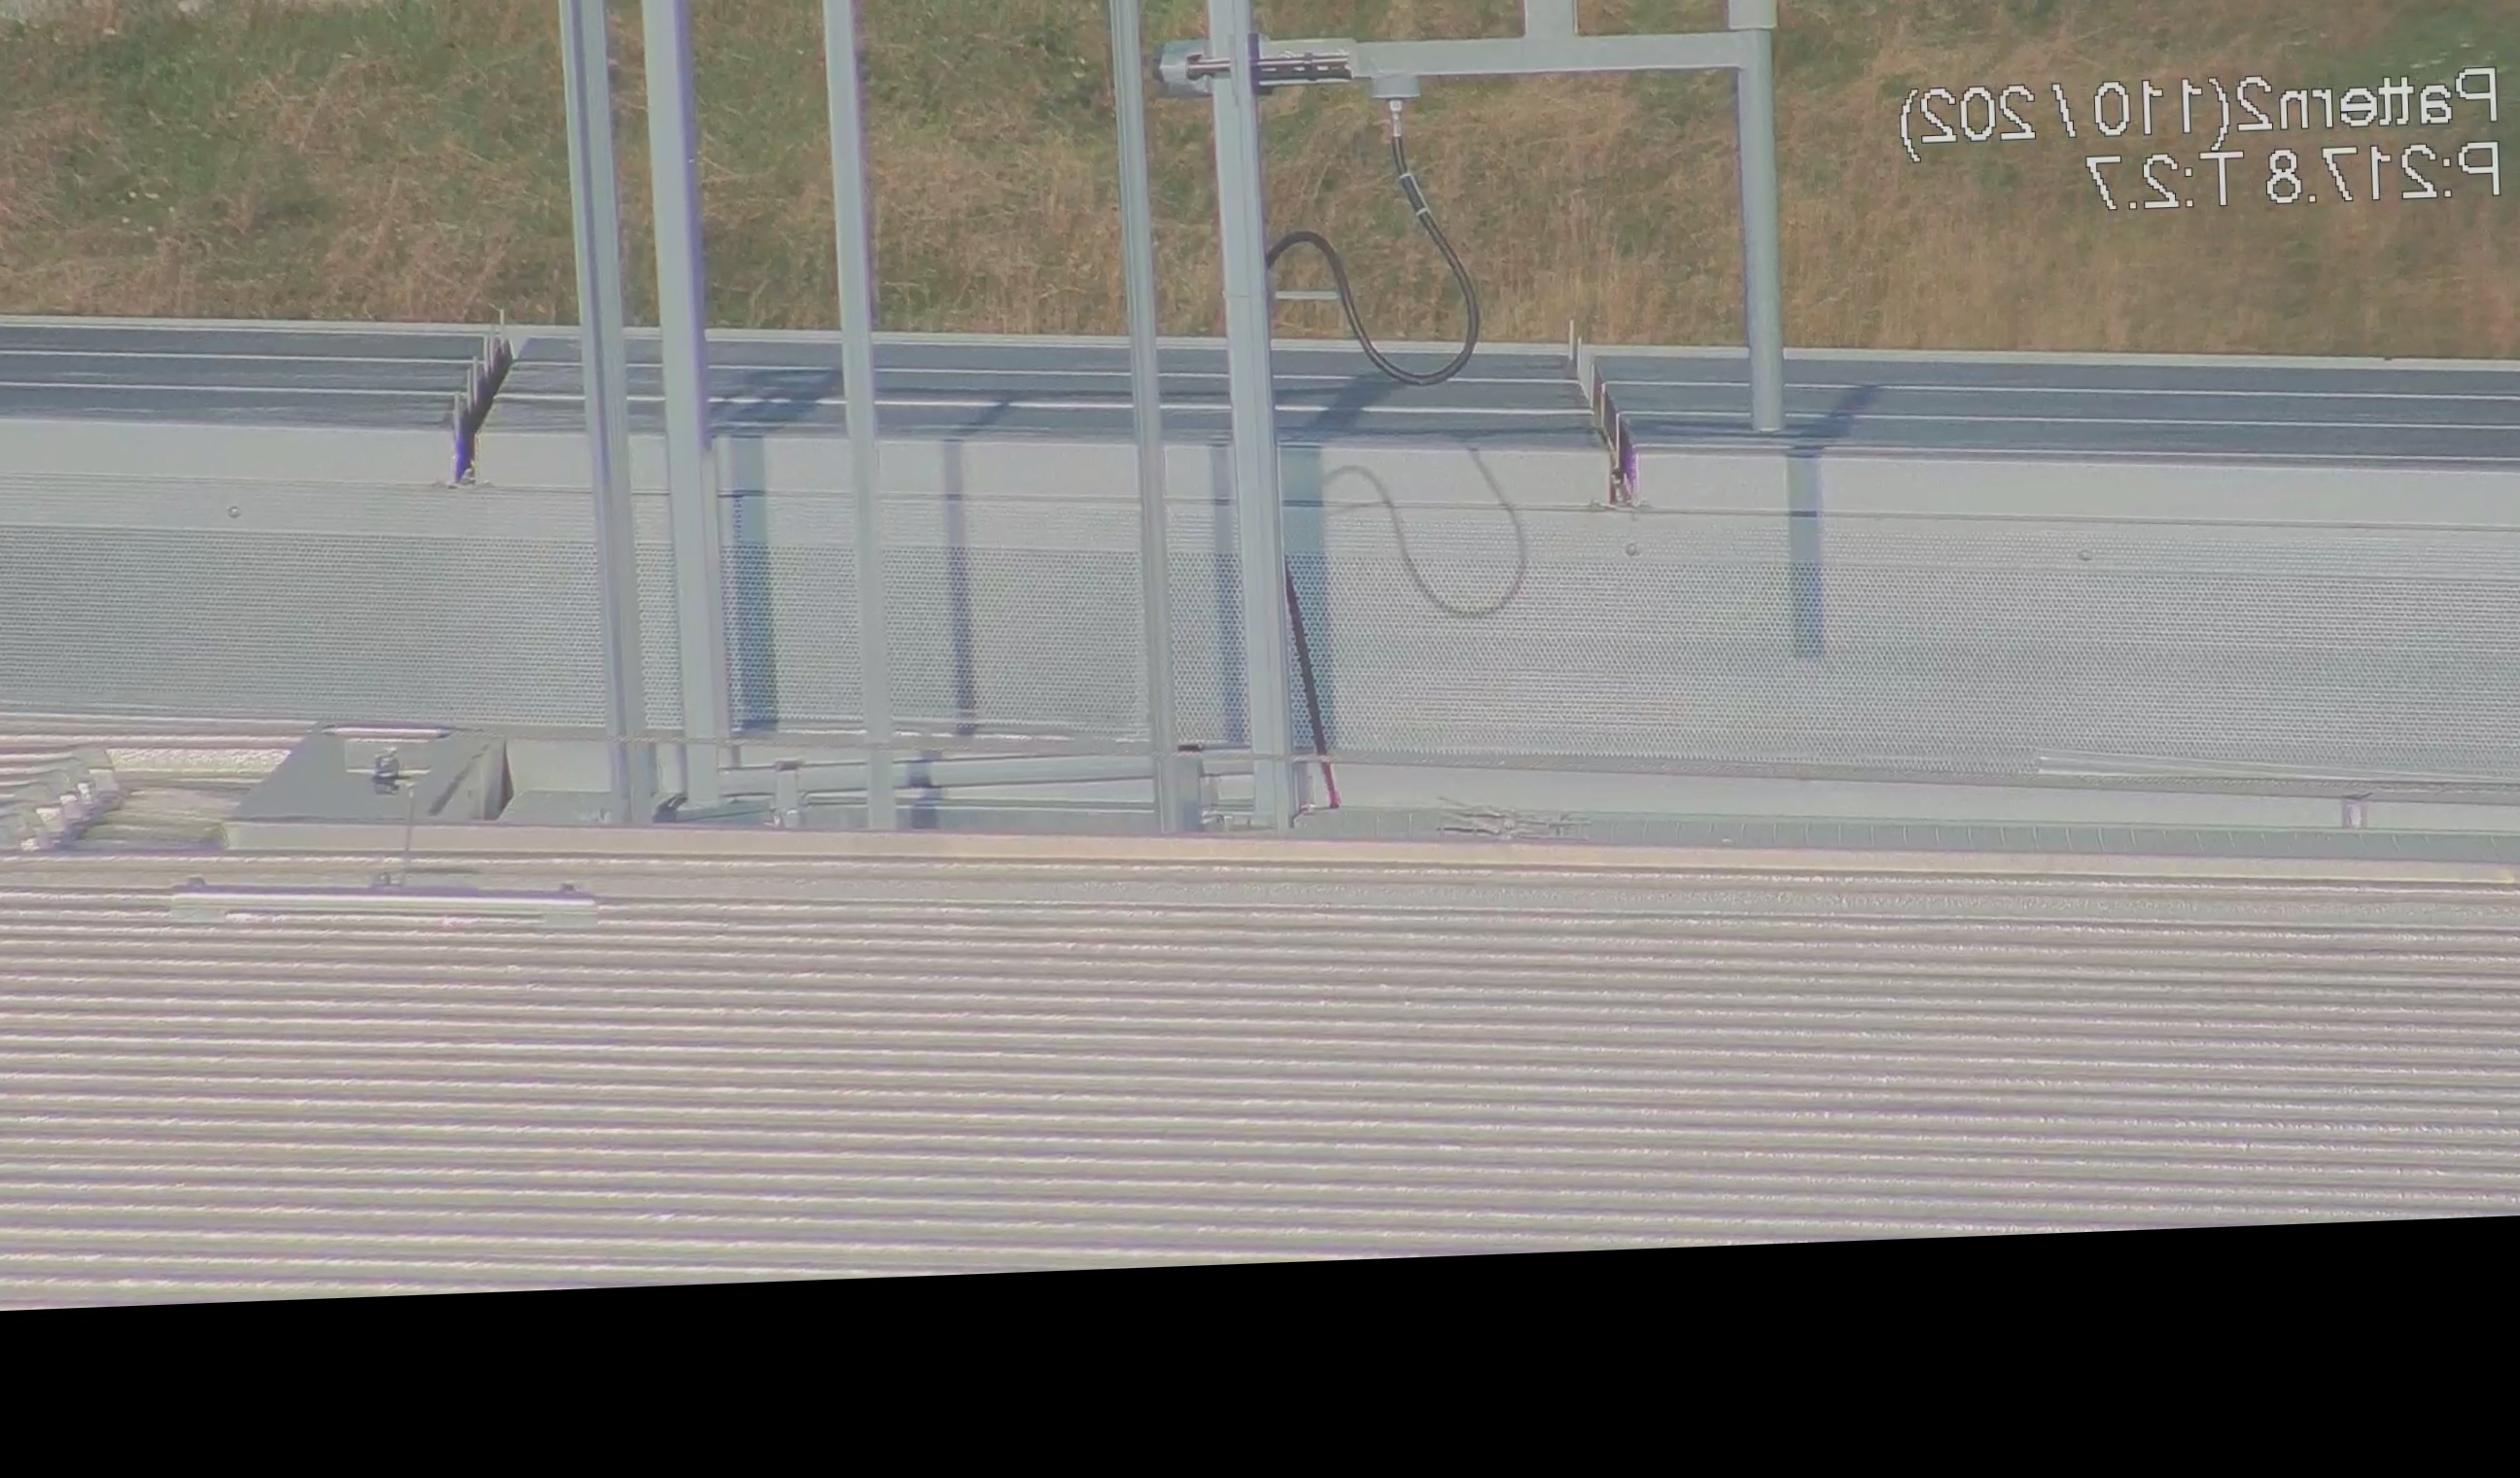Other: (408, 306, 543, 500)
